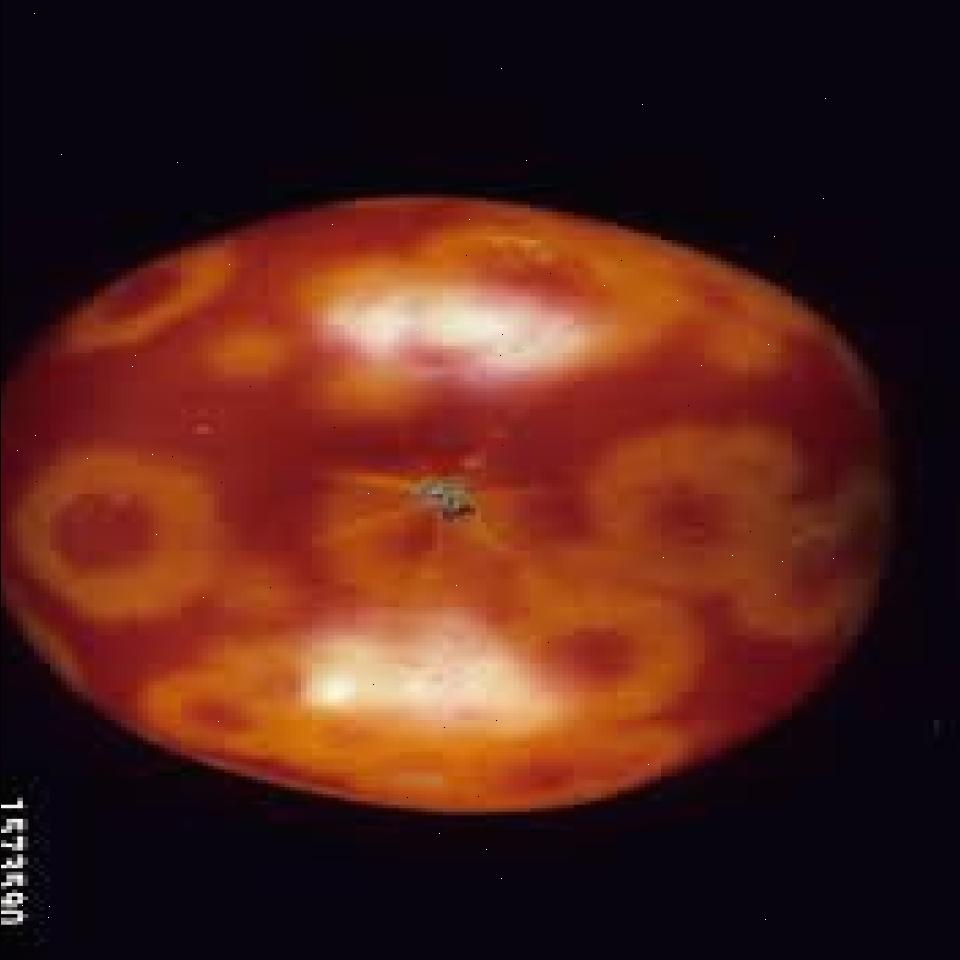Spotted wilt Virus: (0, 198, 884, 808)
